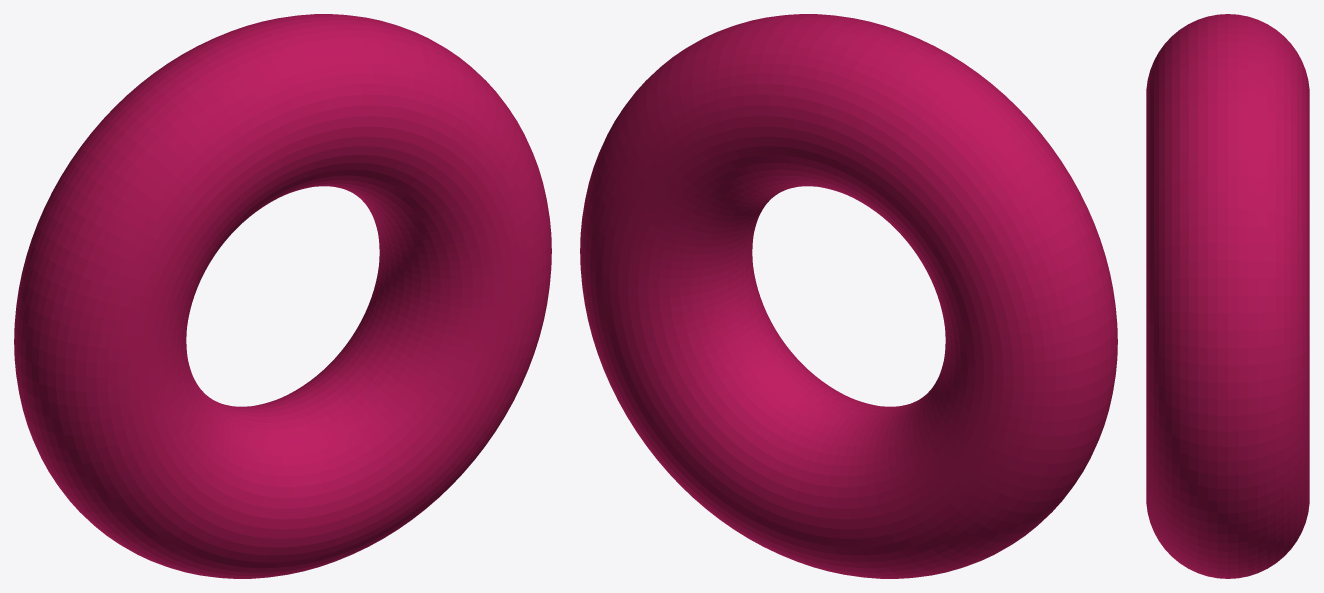
3 renders of one model, left to right at view 1: azimuth 30°, elevation 25°; view 2: azimuth 150°, elevation 25°; view 3: azimuth 270°, elevation 25°, orthographic. The views are drawn at different scales.
Visible parts, largest first — view 1: world; view 2: world; view 3: world.
Boxes of the visible parts, box(x1,y1,x2,y2) form: world: box(14, 14, 551, 578); world: box(580, 14, 1117, 578); world: box(1146, 14, 1309, 578).
Size of the model in its own units: 22.53 by 22.53 by 6.52.
